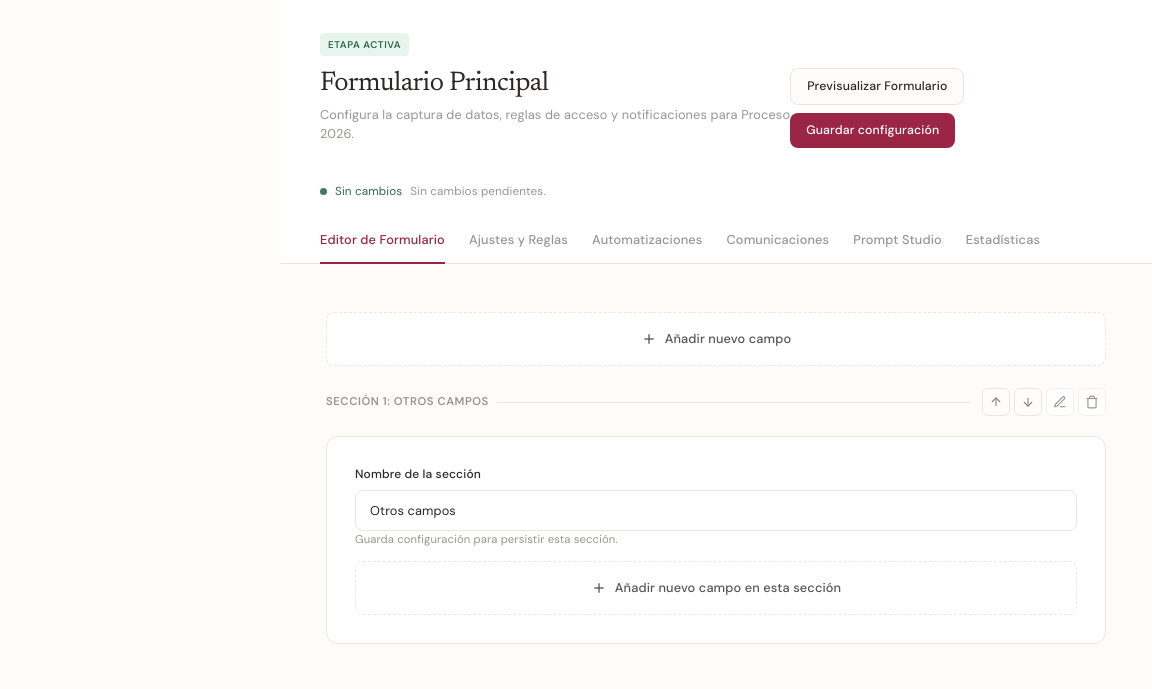
Test: StageConfigEditor › keeps applicant instructions only under Ajustes y Reglas
Click the button "Ajustes y Reglas": (518, 241) [469, 218, 568, 264]
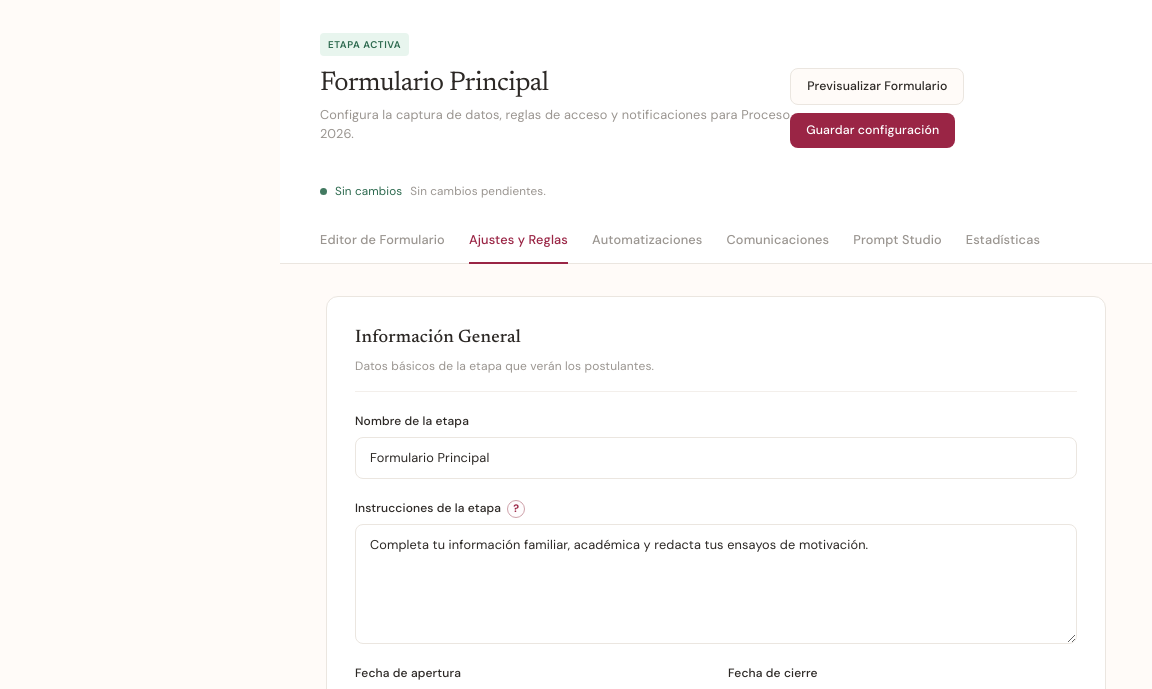
Result: the text box labelled "Instrucciones de la etapa ?" is shown at [355, 524, 1077, 644]
